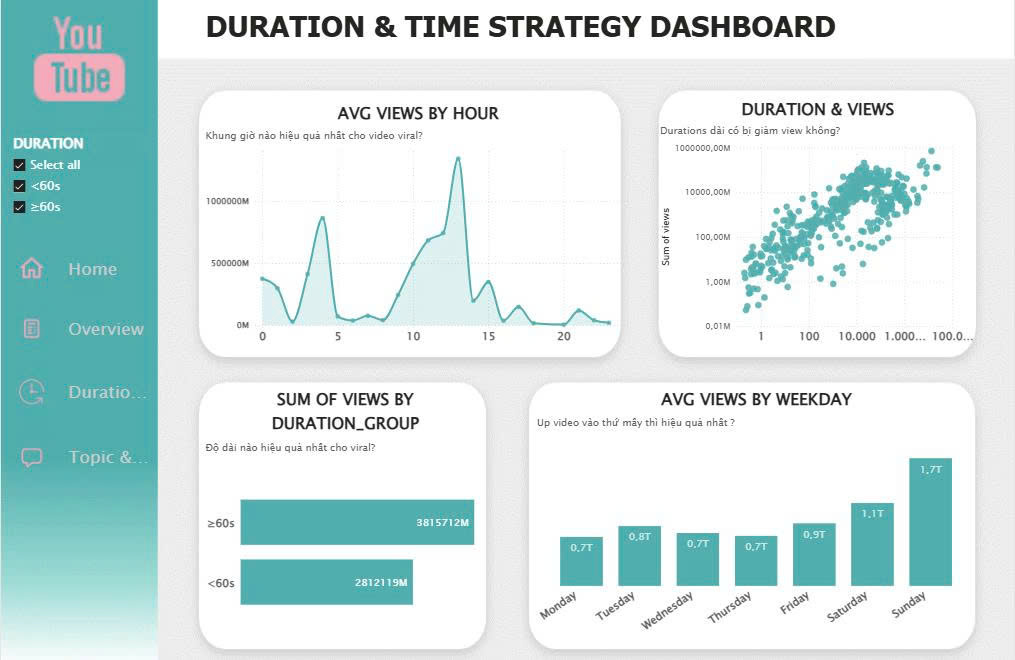

This screenshot's page, from the dashboard's own definition file:
{"tool":"powerbi","page":{"name":"Dash2","canvas":[1500,1000],"ordinal":2},"visuals":[{"type":"image","box":[0,22.5,232.5,160],"z":0},{"type":"slicer","fields":{"Values":["YOUTUBE_VIZ.duration_group"]},"box":[0,199.7,232.3,147.6],"z":1000},{"type":"clusteredBarChart","title":"SUM OF VIEWS BY DURATION_GROUP","fields":{"Category":["YOUTUBE_VIZ.duration_group"],"Y":["Sum(YOUTUBE_VIZ.views)"]},"box":[298,586,424,384],"z":2000},{"type":"scatterChart","title":"DURATION & VIEWS","fields":{"Y":["Sum(YOUTUBE_VIZ.views)"],"Category":["YOUTUBE_VIZ.title"],"X":["Sum(YOUTUBE_VIZ.duration_minutes)"]},"box":[970,157.5,477.5,377.5],"z":3000},{"type":"actionButton","title":"Button 3","box":[0,645.2,232.4,89],"z":3000,"group":"g1"},{"type":"actionButton","title":"Button 2","box":[0,547.8,232.4,89],"z":3125,"group":"g1"},{"type":"actionButton","title":"Button 1","box":[0,459.5,232.4,79.9],"z":3250,"group":"g1"},{"type":"actionButton","title":"Button Home","box":[0,369,232.4,82.2],"z":3500,"group":"g1"},{"type":"clusteredColumnChart","title":"AVG VIEWS BY WEEKDAY","fields":{"Category":["YOUTUBE_VIZ.publish_weekday_name"],"Y":["Sum(YOUTUBE_VIZ.views)"]},"box":[788,586,660,384],"z":4000},{"type":"textbox","box":[297.5,20,980,80],"z":5000},{"type":"lineChart","title":"AVG VIEWS BY HOUR","fields":{"Category":["YOUTUBE_VIZ.publish_hour"],"Y":["Sum(YOUTUBE_VIZ.views)"]},"box":[298,158,640,378],"z":6000},{"type":"group","id":"g1","title":"Navigation","box":[0,369,232.3,364.7],"z":7000}]}

Visuals, with their boxes on the page's 1500x1000 design canvas (x1, y1, x2, y2). These are canvas units, not pixel positions in the 1015x660 screenshot, which may show the page scaled, cropped or inside an application window:
image: 0, 22, 232, 182
slicer - YOUTUBE_VIZ.duration_group: 0, 200, 232, 347
"SUM OF VIEWS BY DURATION_GROUP" clusteredBarChart: 298, 586, 722, 970
"DURATION & VIEWS" scatterChart: 970, 158, 1448, 535
"Button 3" actionButton: 0, 645, 232, 734
"Button 2" actionButton: 0, 548, 232, 637
"Button 1" actionButton: 0, 460, 232, 539
"Button Home" actionButton: 0, 369, 232, 451
"AVG VIEWS BY WEEKDAY" clusteredColumnChart: 788, 586, 1448, 970
textbox: 298, 20, 1278, 100
"AVG VIEWS BY HOUR" lineChart: 298, 158, 938, 536
"Navigation" group: 0, 369, 232, 734
